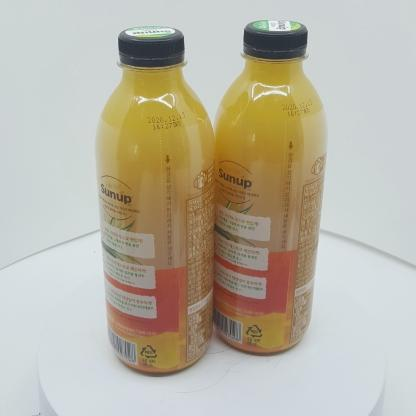----100_----750ML: (95, 25, 215, 375), (211, 19, 328, 354)
